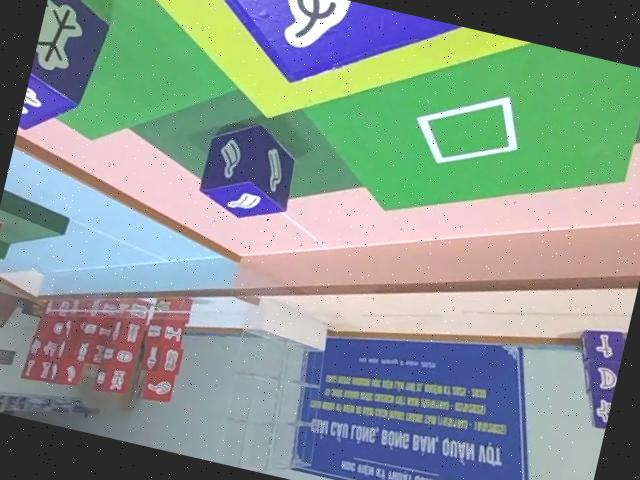R2 Real Blue: (173, 0, 470, 119), (17, 0, 127, 145), (191, 114, 303, 228)
